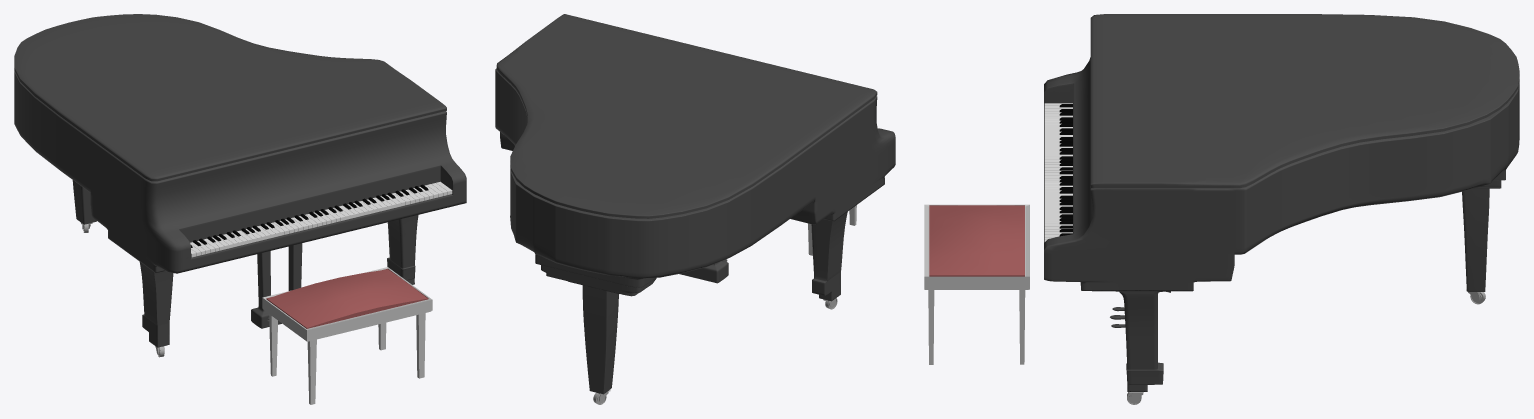
The model's file is Piano 1.fbx.
3 renders of one model, left to right at view 1: azimuth 30°, elevation 25°; view 2: azimuth 150°, elevation 25°; view 3: azimuth 270°, elevation 25°, orthographic. The views are drawn at different scales.
Visible parts, largest first — view 1: Piano_Base, Seat_top, Seat_btm, Keys_White, Keys_Black; view 2: Piano_Base; view 3: Piano_Base, Seat_top, Seat_btm, Keys_White, Keys_Black.
Boxes of the visible parts, <box> form: Piano_Base: <box>14,14,466,347</box>; Seat_top: <box>266,268,428,328</box>; Seat_btm: <box>262,267,432,404</box>; Keys_White: <box>190,181,452,257</box>; Keys_Black: <box>191,184,428,247</box>; Piano_Base: <box>495,14,895,394</box>; Piano_Base: <box>1044,14,1519,391</box>; Seat_top: <box>929,205,1024,276</box>; Seat_btm: <box>924,204,1029,364</box>; Keys_White: <box>1044,103,1072,241</box>; Keys_Black: <box>1059,104,1072,236</box>.
Size of the model in its own units: 12.08 by 7.74 by 17.83.
